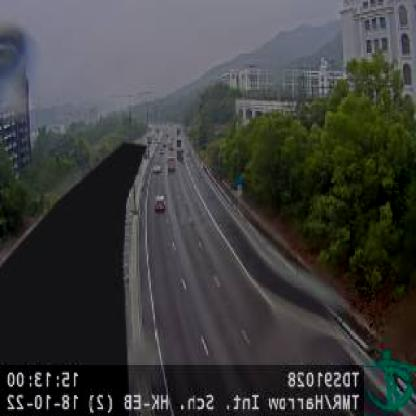Bus: (165, 155, 177, 174)
Car: (156, 194, 166, 212), (151, 163, 160, 174)
